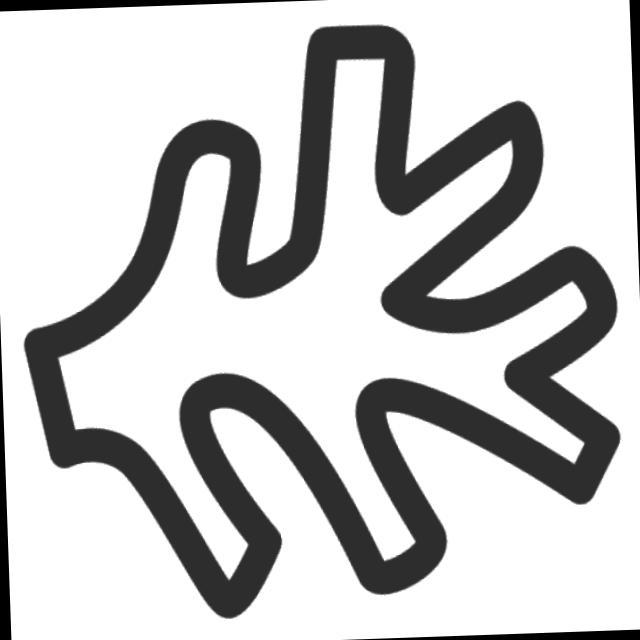coral: (1, 9, 640, 636)
